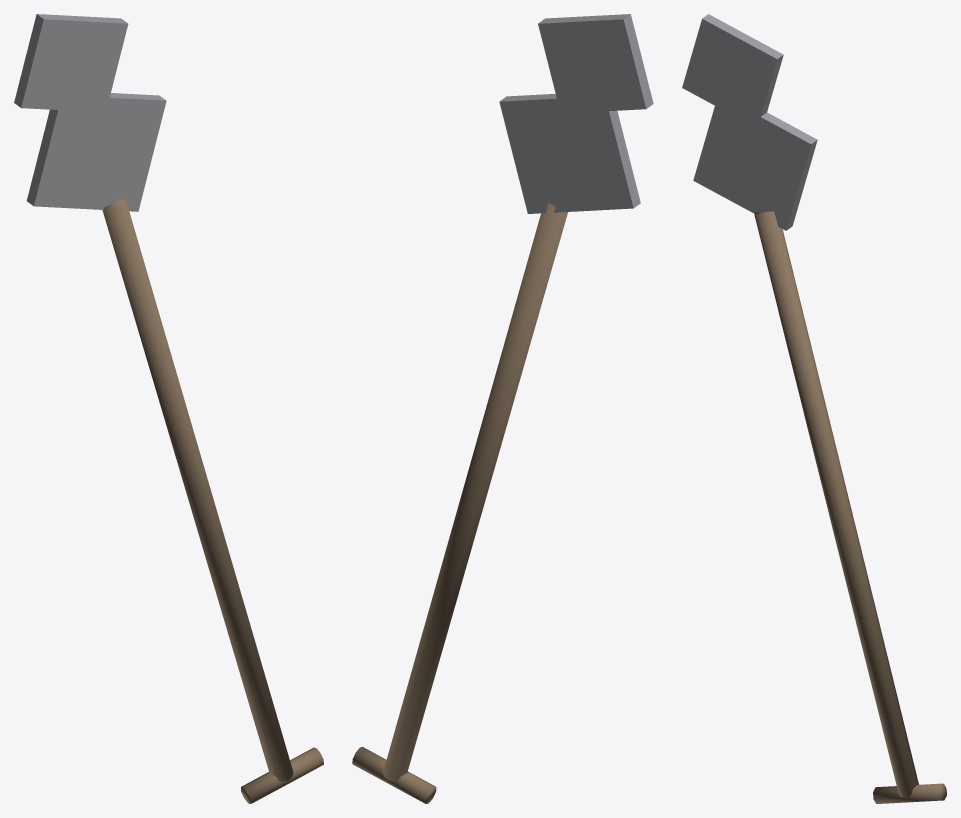
Rendered from ShovelStowed.fbx.
3 views of the same model, side by side, from view 1: azimuth 30°, elevation 25°; view 2: azimuth 150°, elevation 25°; view 3: azimuth 330°, elevation 25° (orthographic). The views are drawn at different scales.
Visible parts, largest first — view 1: ShovelStowed; view 2: ShovelStowed; view 3: ShovelStowed.
Boxes of the visible parts, x1=… form: ShovelStowed: x1=14, y1=14, x2=323, y2=803; ShovelStowed: x1=352, y1=14, x2=653, y2=803; ShovelStowed: x1=682, y1=14, x2=946, y2=803.
Size of the model in its own units: 28.73 by 76.79 by 2.8.
